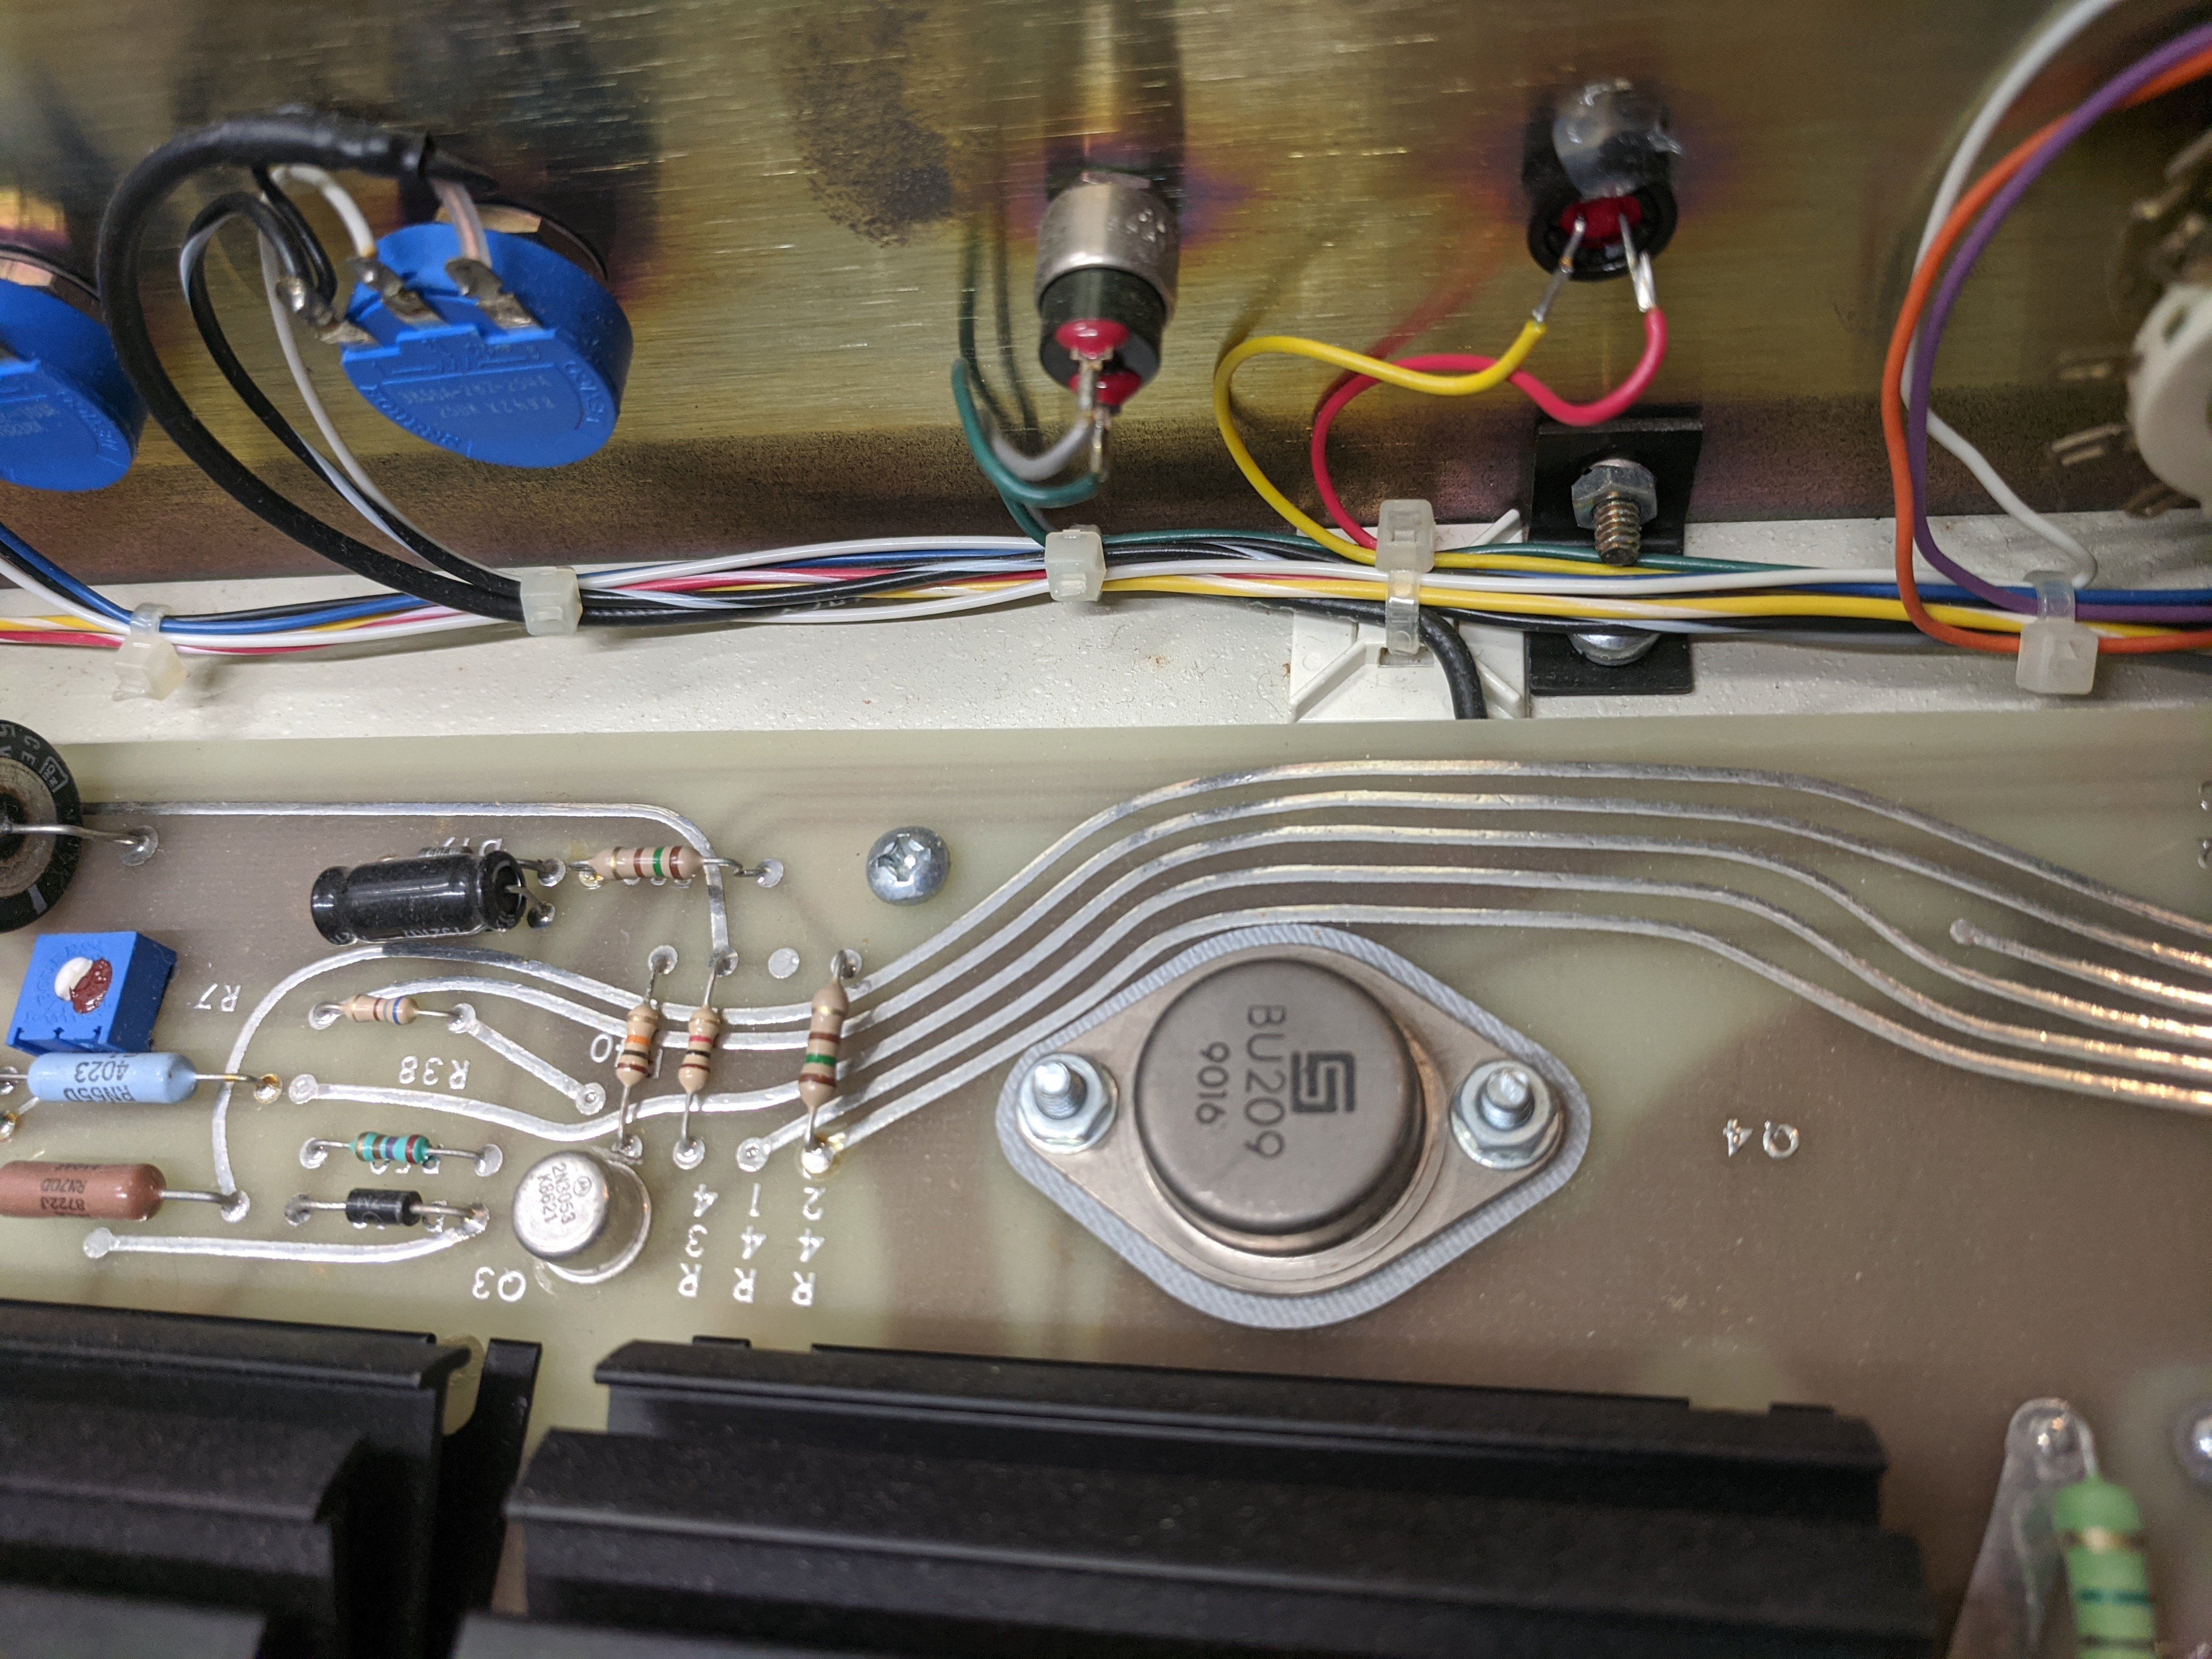cross_recessed_screw: (857, 819, 956, 915)
